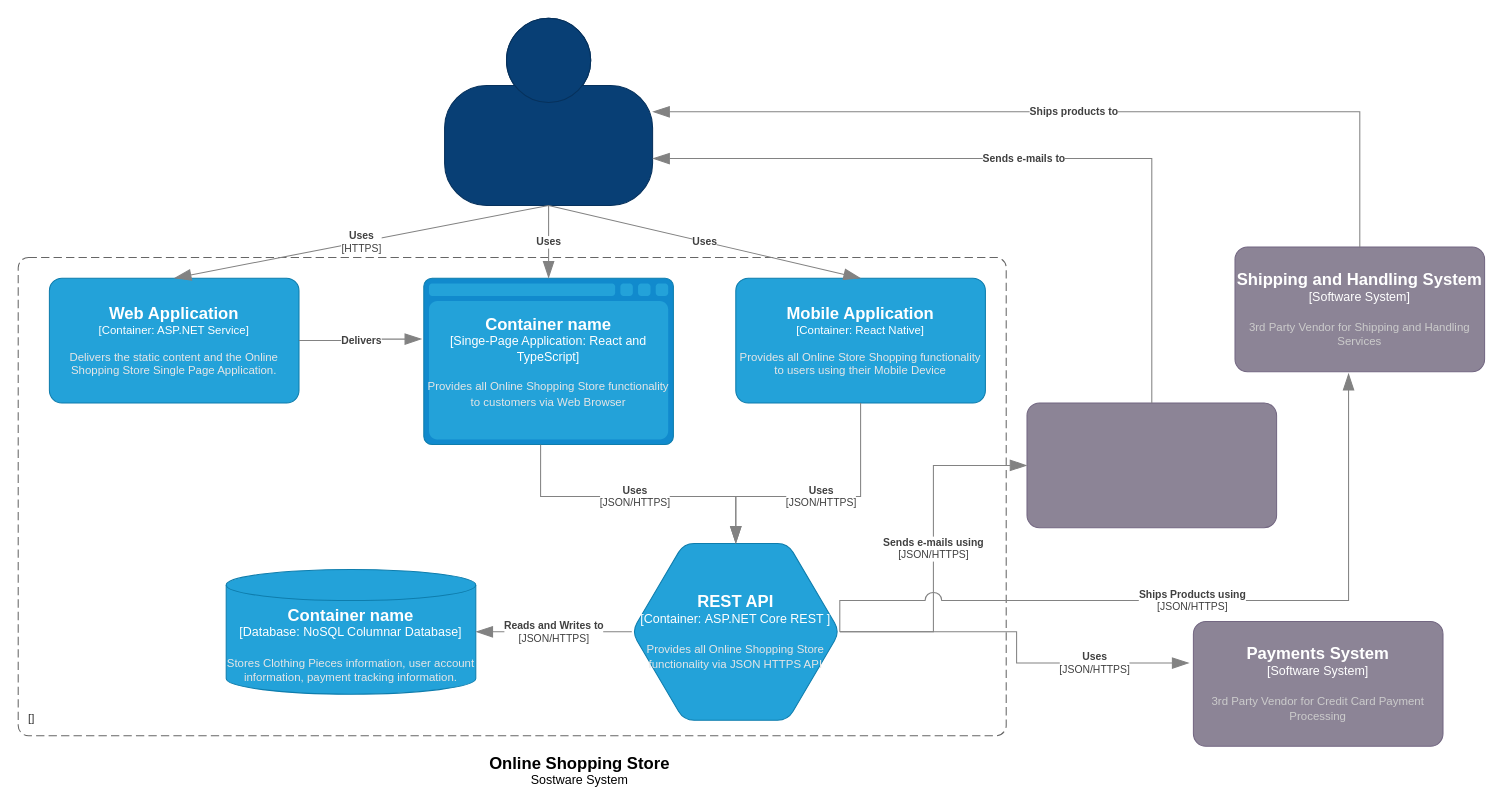
Image size: 1503x807. Some labels were removed from this diagram. The shapes that lost their labels are listed below. From the top down, each one's centre as x and y in pixels, then its label:
At (x=548, y=111): "End User [User]".
At (x=1151, y=465): "E-mail System [Software System] 3rd Party Notification Service".
